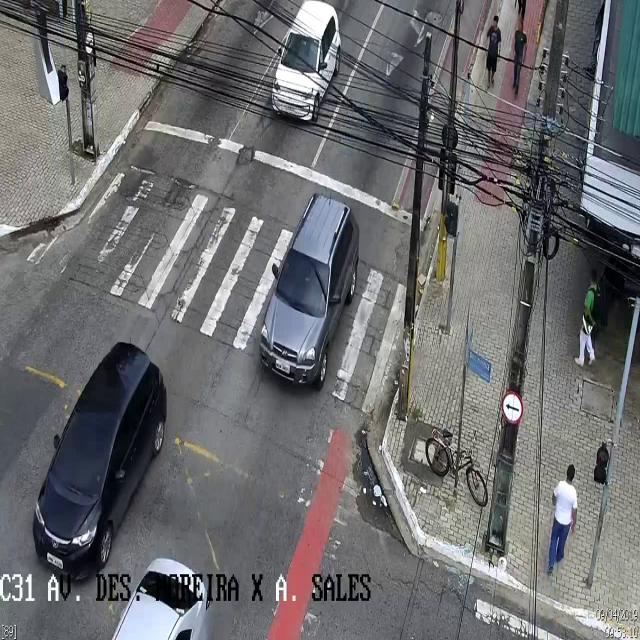Car: (33, 341, 167, 579), (260, 192, 358, 391), (101, 544, 220, 640), (269, 4, 341, 128)
